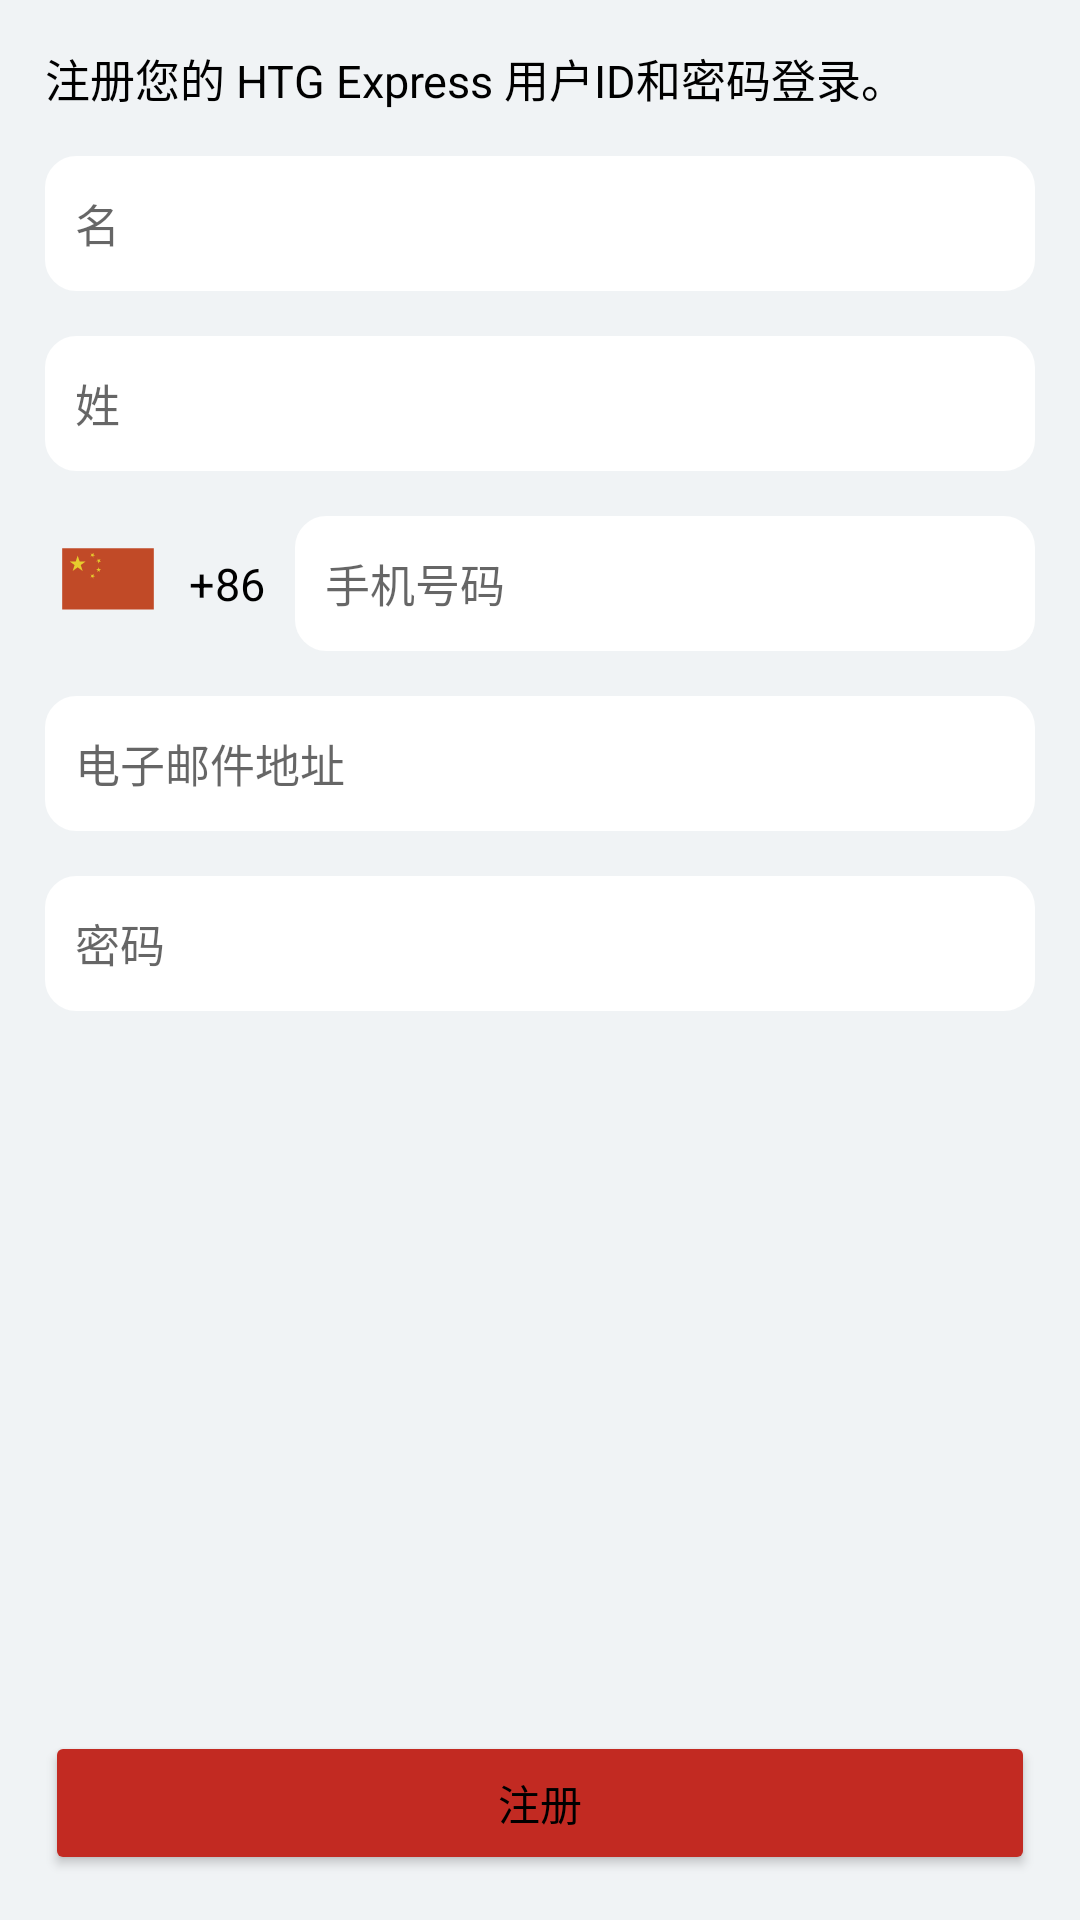

Where to tap for icons on this 1080x1920 app screen, as (x,y):
china flag: (108,579)
